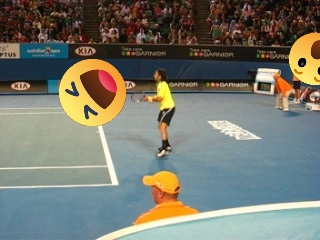haha: (59, 59, 126, 126)
wow: (289, 33, 320, 85)
